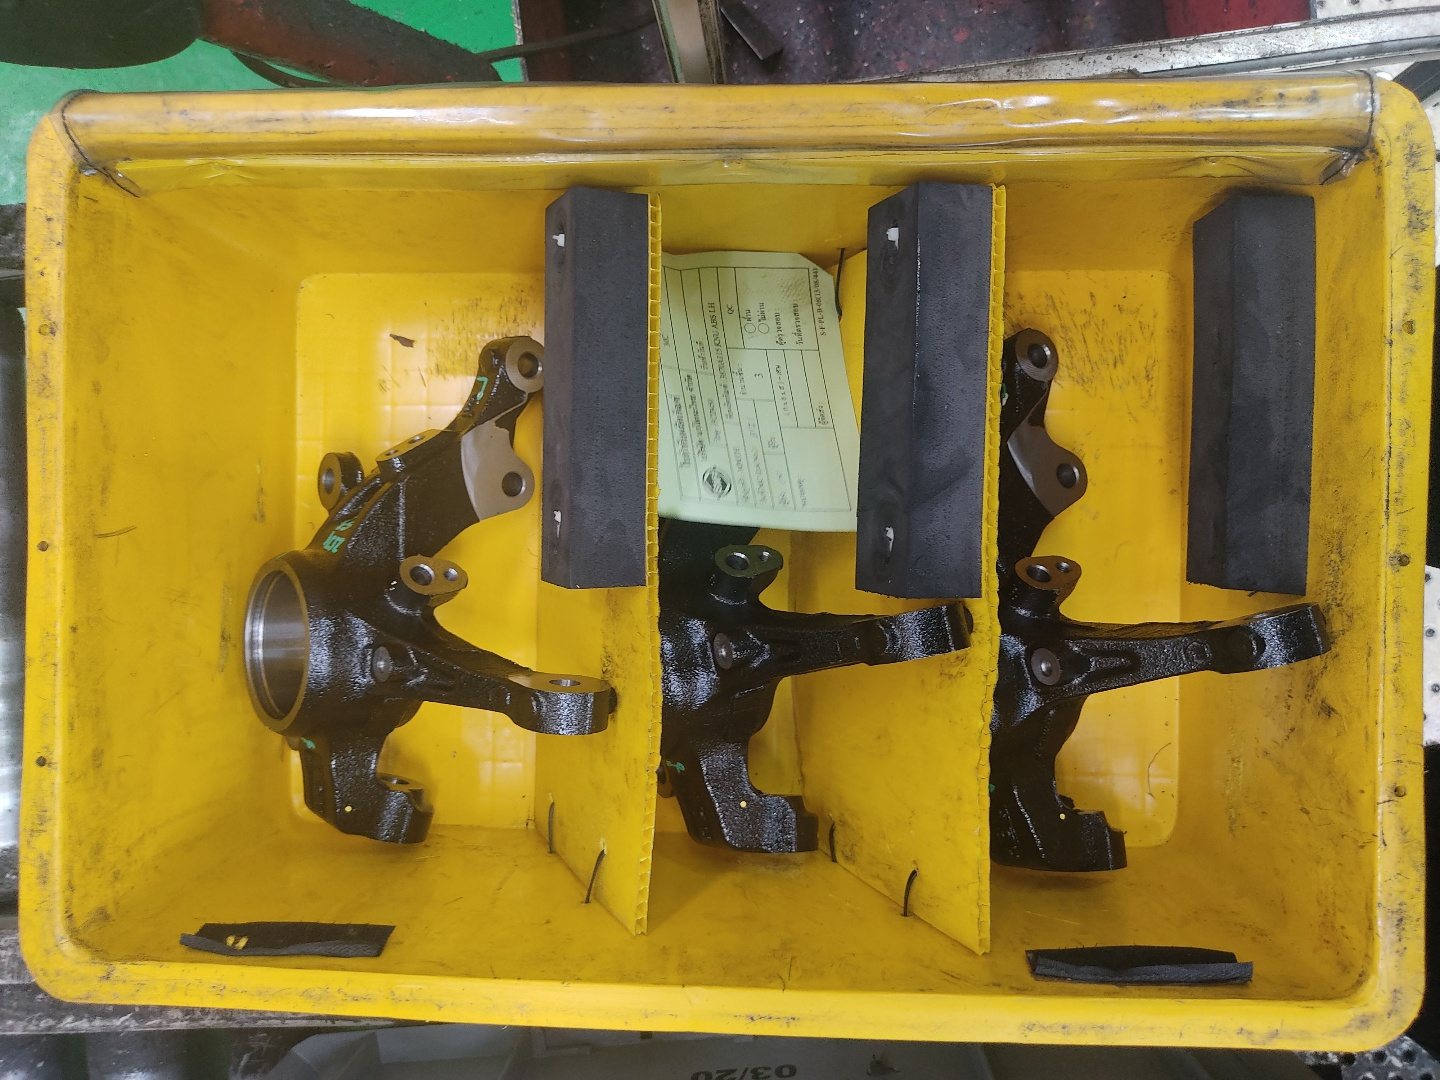abs-lh: (235, 327, 622, 850), (999, 321, 1342, 878), (632, 328, 981, 855)
